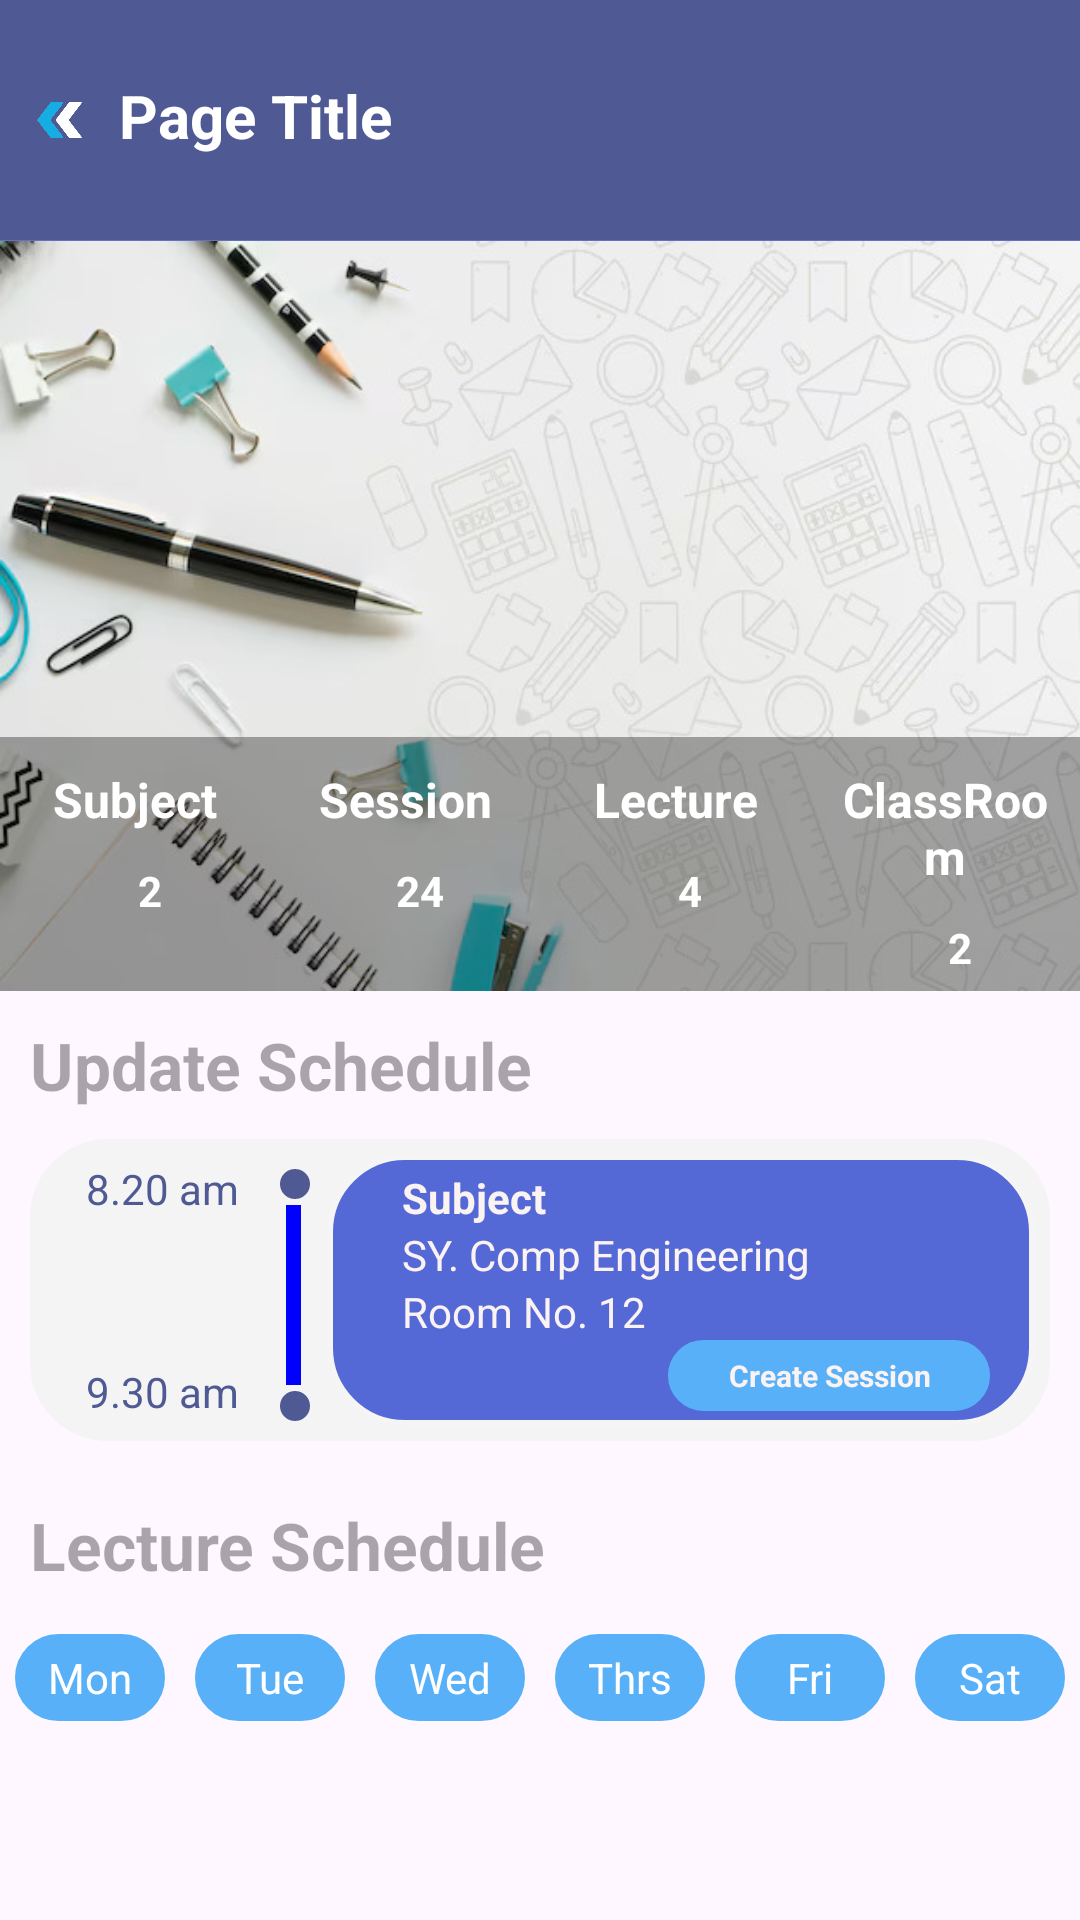

Icons on this 1080 x 1920 Android screen, each with its box as [x1=x1, y1=y1, x2=x2, y2=y2]:
doule arrowpreview: [x1=37, y1=102, x2=82, y2=138]
